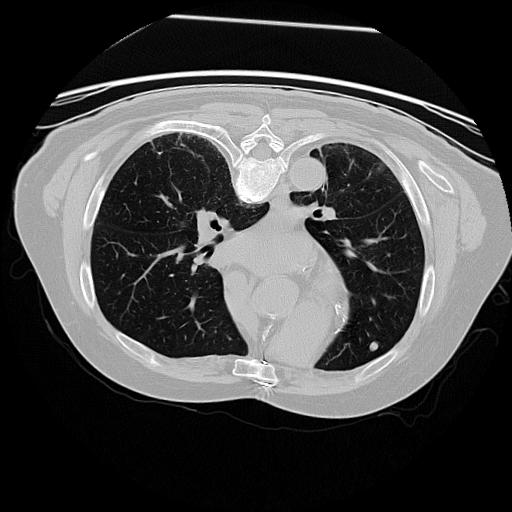nodule: (366, 340, 381, 355)
